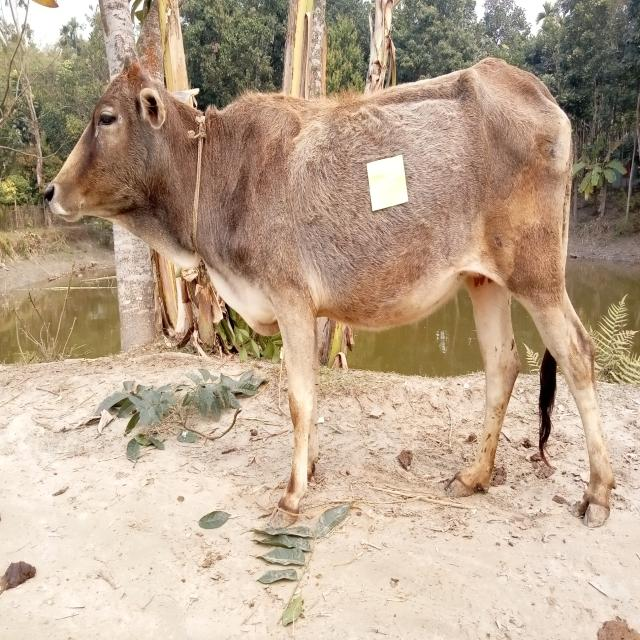badan_sapi: (274, 79, 542, 326)
sapi: (35, 48, 620, 524)
